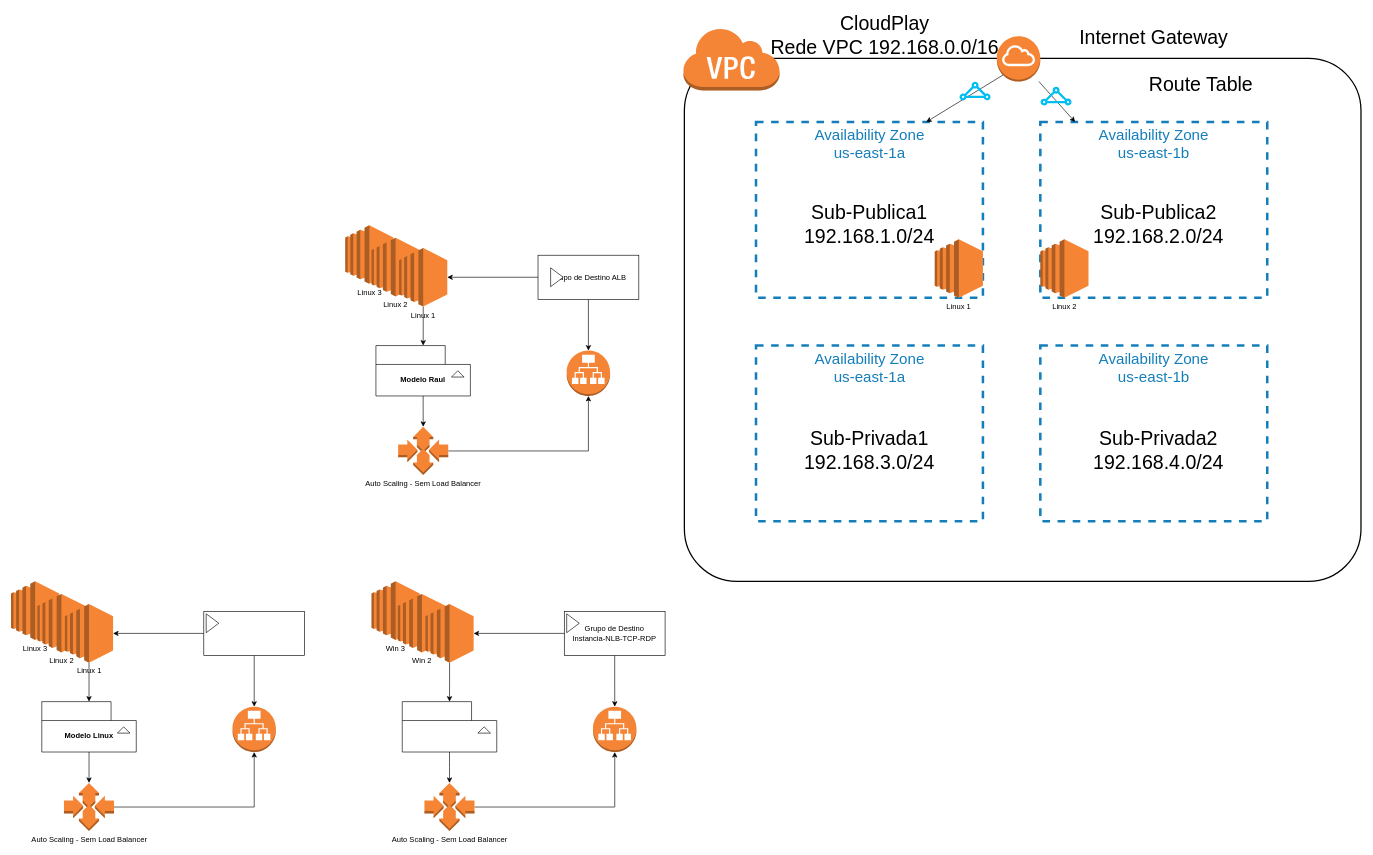
Some shapes in this 1373 by 855 pixel diagram are drawn without their labels. Here are the shapes that lost their labels. From the top down, the box of each, then its label:
(566, 350, 610, 396): roteador-ALB HTTP 80
(203, 611, 305, 655): Grupo de Destino Instancia-NLB-TCP-SSH
(425, 603, 474, 663): Win 1
(232, 706, 276, 752): roteador-NLB SSH 22
(402, 701, 497, 752): Modelo Windows
(592, 706, 636, 752): roteador-NLB RDP 3389
